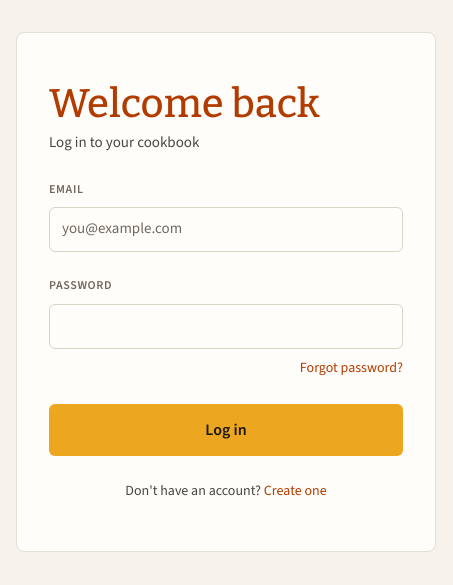
Test case: Login page › a press on the submit button does not hold back a later leaving of the email
Press the mouse on the button "Log in" at (226, 430), box [49,404,403,456]
Type "jane@" into the field labelled "Email".
click(226, 230); type("jane@")  # box [49,207,403,252]
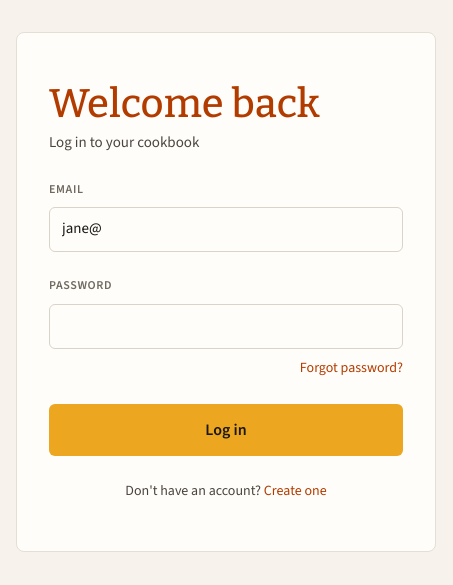
Leave the field labelled "Email", box [49,207,403,252]
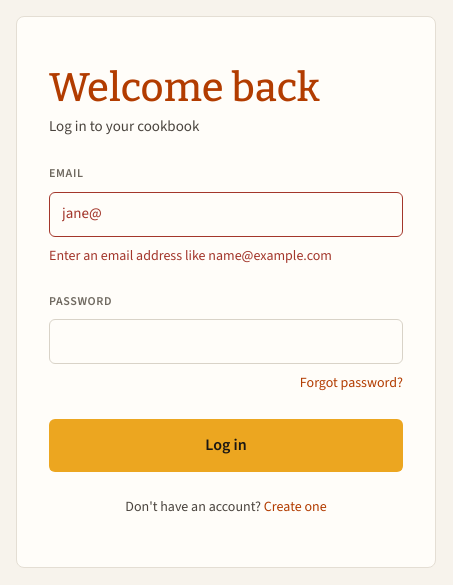
Expected: the text "Enter an email address like name@example.com" is shown, [49,246,332,266]
